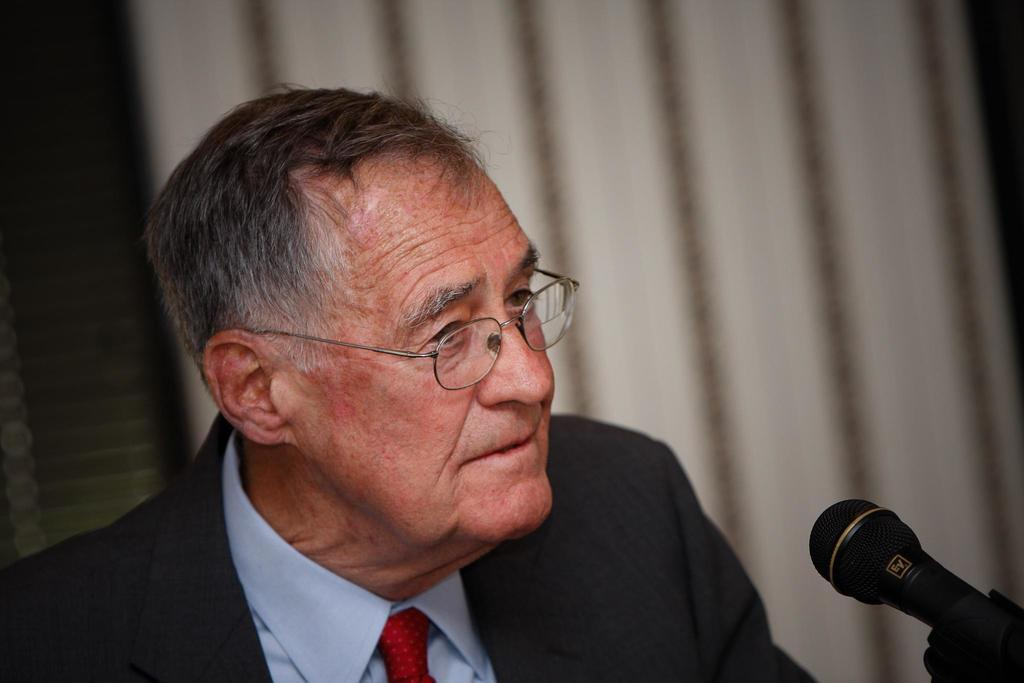Sem Máscara: (302, 167, 551, 534)
